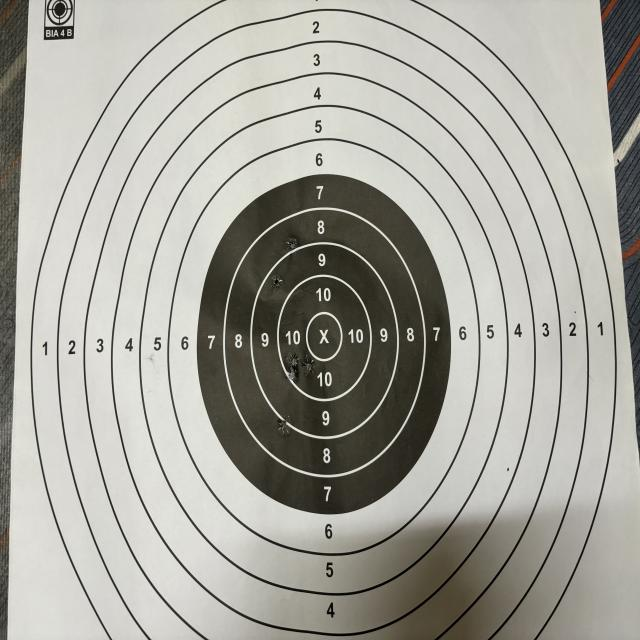bullet: (303, 356, 314, 375), (289, 353, 299, 371), (276, 420, 288, 432), (288, 366, 296, 381), (288, 240, 296, 251), (272, 276, 280, 287), (504, 468, 512, 472)
target: (7, 0, 640, 640)
